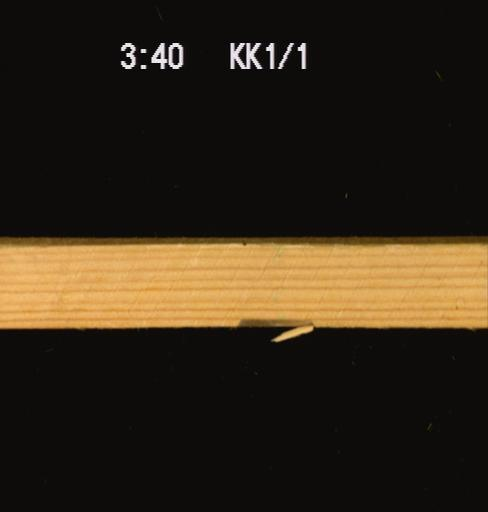wave: (234, 310, 318, 325)
